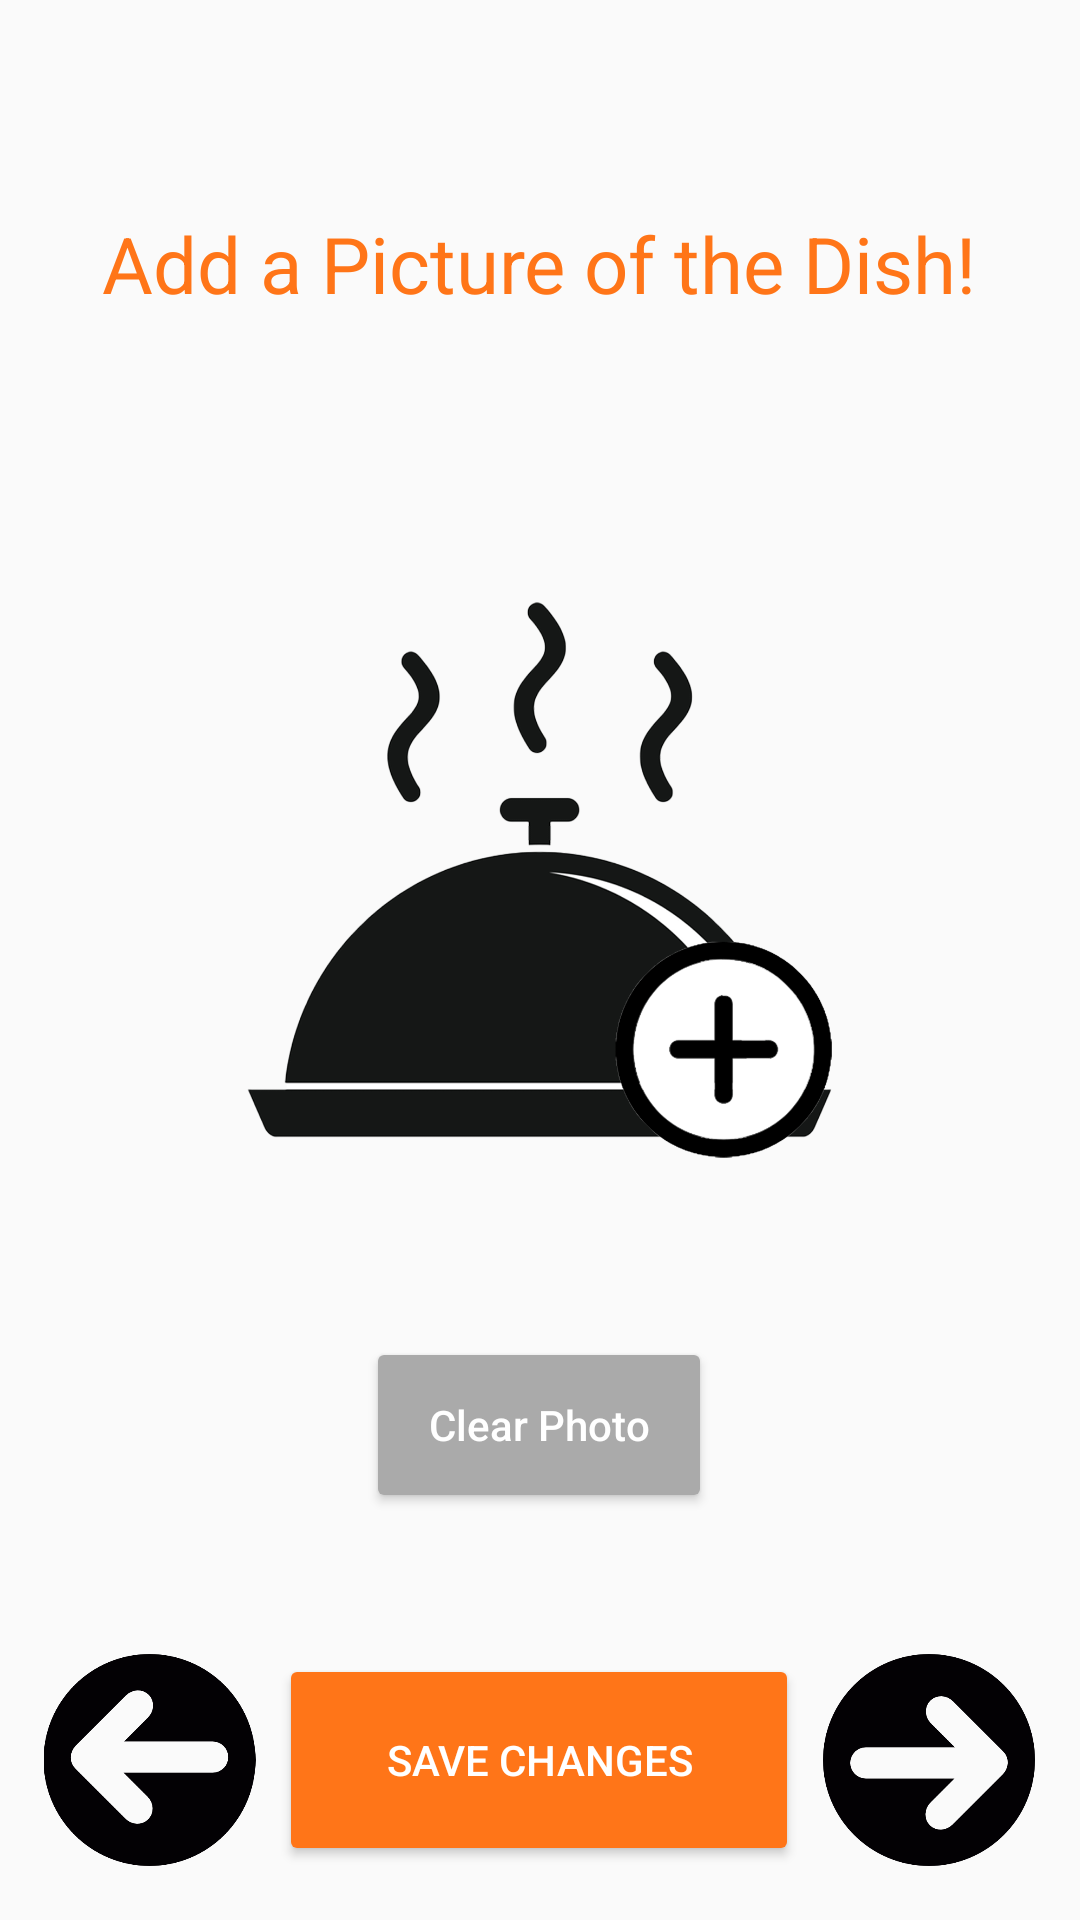

Named icons in this screenshot (1080px×1920px) and their centers, (x,y):
left arrow: (150,1760)
right arrow: (929,1760)
